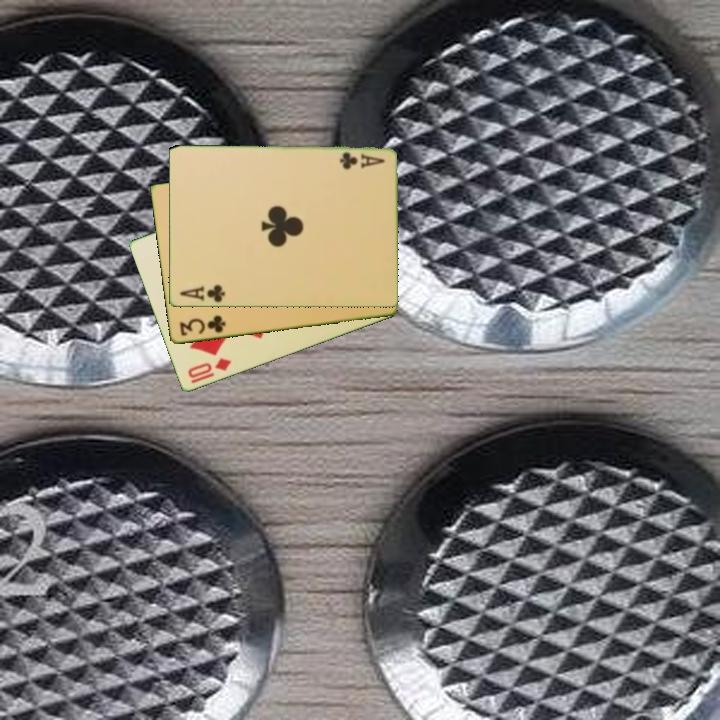10d: (184, 355, 234, 381)
3c: (176, 312, 228, 339)
Ac: (176, 282, 228, 305), (336, 149, 387, 172)
